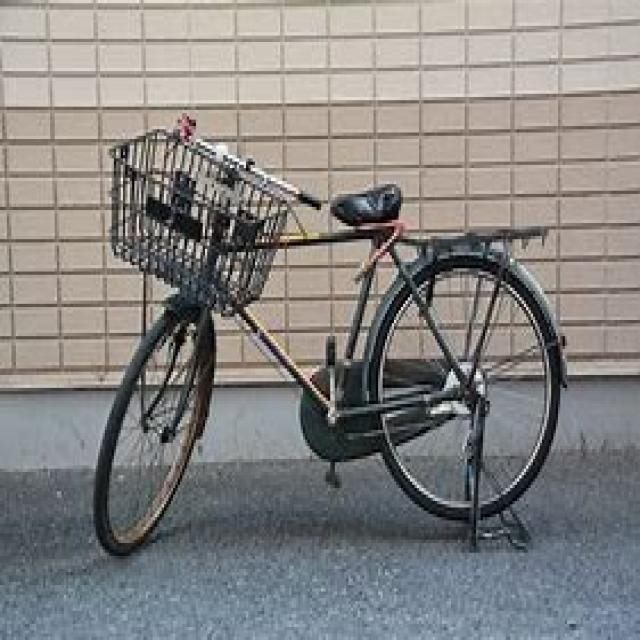basket: (106, 126, 287, 320)
